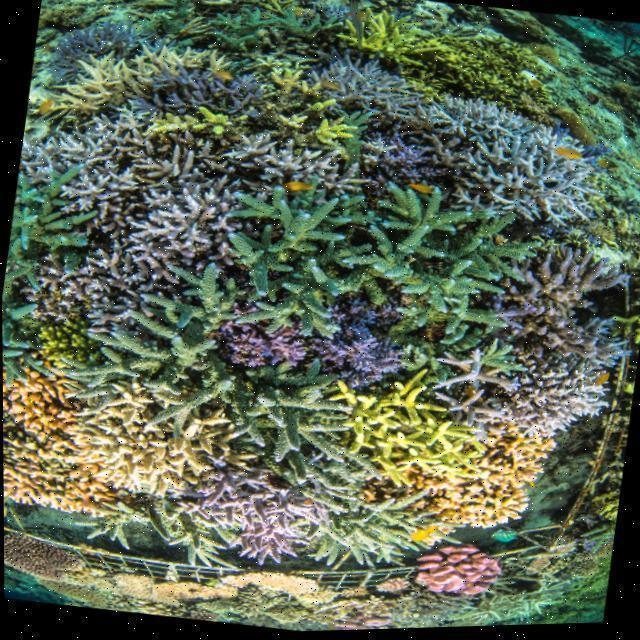Healthy Coral: (64, 259, 347, 540), (232, 161, 574, 368), (57, 18, 337, 159), (3, 517, 336, 624), (332, 0, 581, 129), (313, 357, 500, 509), (94, 145, 252, 295), (460, 132, 627, 234)
